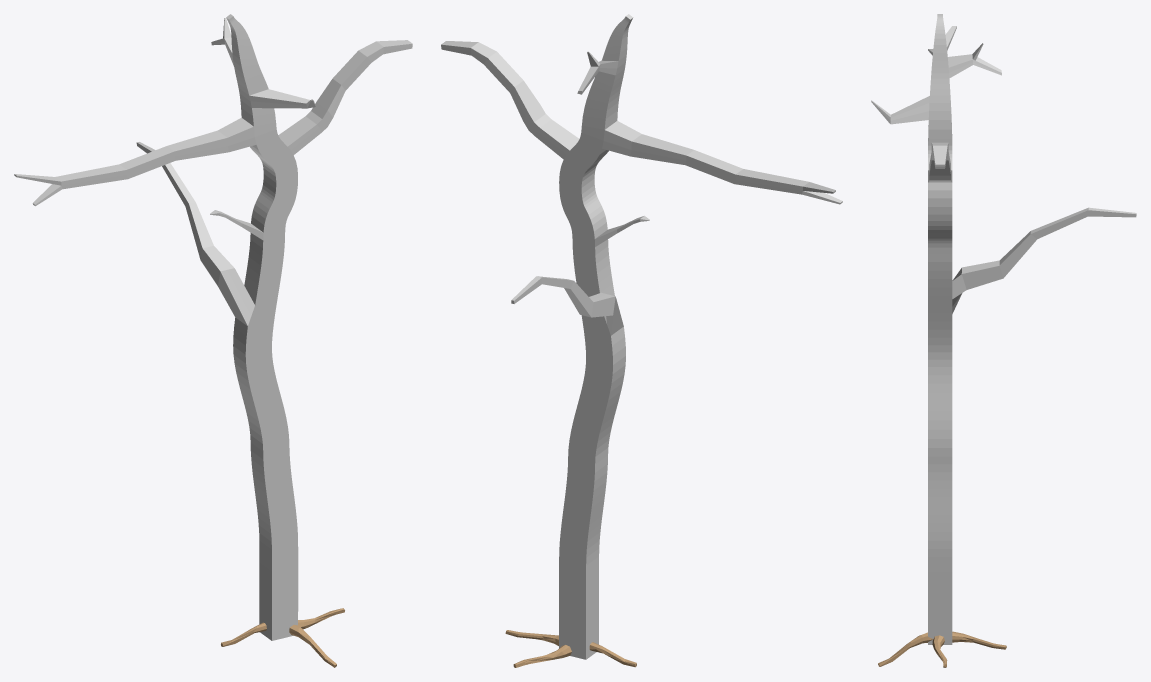
Rendered from Environment_Tree_2.fbx.
The picture shows the model from 3 angles, left to right: view 1: azimuth 30°, elevation 25°; view 2: azimuth 150°, elevation 25°; view 3: azimuth 270°, elevation 25°; orthographic projection. The views are drawn at different scales.
Visible parts, largest first — view 1: BezierCurve.005; view 2: BezierCurve.005; view 3: BezierCurve.005.
Part boxes in pixels (x1,y1,x2,y2): BezierCurve.005: (14, 14, 412, 640); BezierCurve.005: (441, 14, 842, 659); BezierCurve.005: (871, 14, 1136, 644).
Bounding box in the file's own units: 886 × 1415 × 549.
